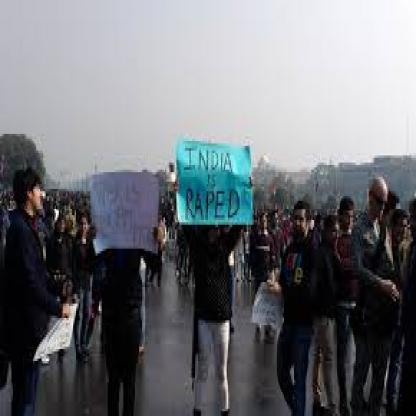BANNER: (174, 136, 255, 230), (90, 172, 161, 253)
